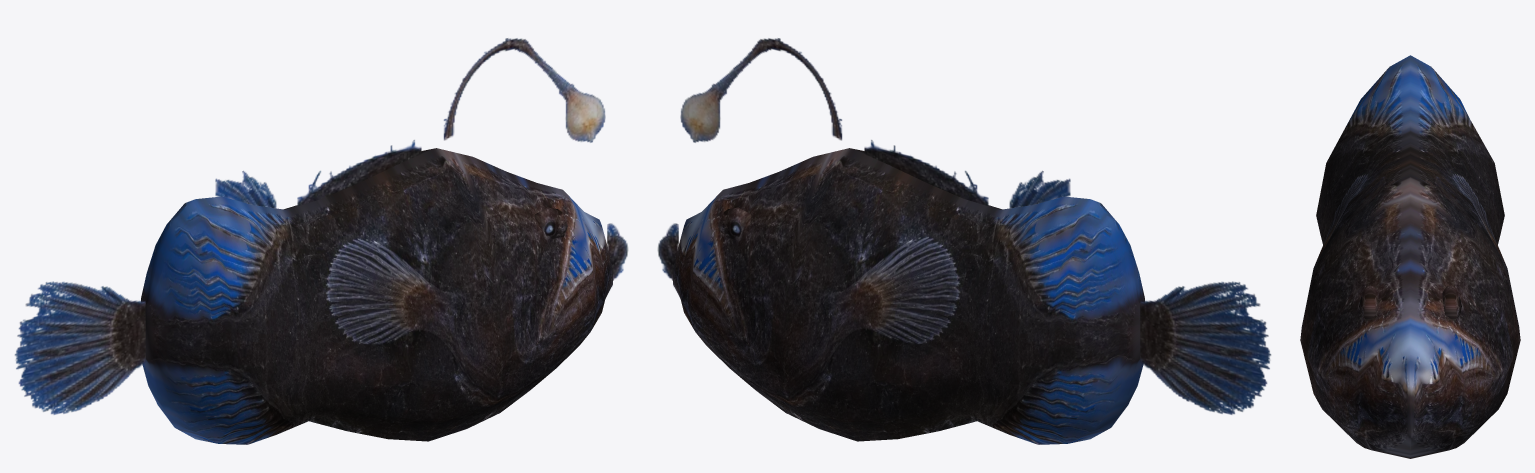
File: ocean-anglerfish.glb
3 renders of one model, left to right at view 1: azimuth 30°, elevation 25°; view 2: azimuth 150°, elevation 25°; view 3: azimuth 270°, elevation 25°, orthographic. The views are drawn at different scales.
Visible parts, largest first — view 1: anglerfish; view 2: anglerfish; view 3: anglerfish.
Part boxes in pixels (x1,y1,x2,y2): anglerfish: (15, 38, 628, 444); anglerfish: (657, 38, 1270, 444); anglerfish: (1300, 55, 1520, 458).
Bounding box in the file's own units: 0.4011 × 0.2307 × 0.1274.
Materials: 1 (1 with a texture image).
